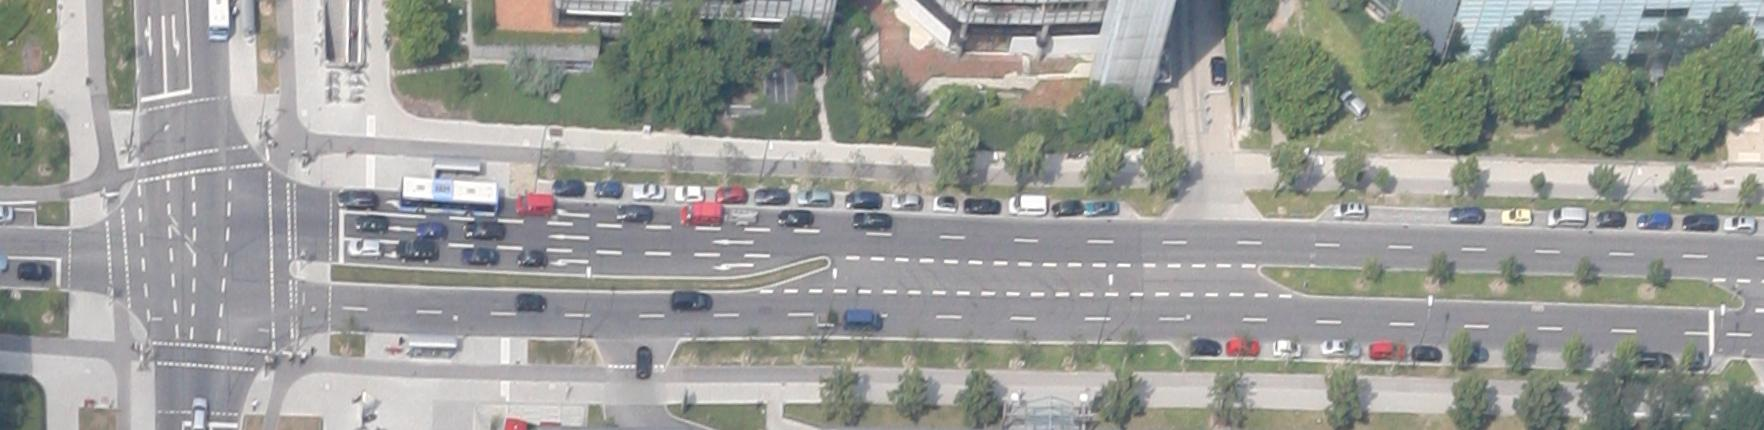car: (1338, 88, 1369, 120), (398, 239, 439, 263), (679, 203, 721, 226), (515, 192, 553, 217), (843, 308, 882, 331), (672, 290, 712, 312), (336, 188, 377, 209), (463, 220, 504, 240), (850, 210, 891, 231), (1320, 338, 1360, 358), (1548, 206, 1586, 227), (1008, 194, 1046, 215), (348, 238, 384, 259), (845, 189, 881, 210), (461, 247, 498, 266), (615, 204, 652, 223), (1682, 212, 1718, 231), (1369, 341, 1406, 359), (355, 214, 388, 234), (634, 344, 652, 380), (1449, 206, 1485, 224), (18, 261, 52, 280), (777, 209, 813, 226), (754, 188, 787, 206), (1333, 200, 1365, 220), (715, 185, 747, 204), (514, 293, 546, 312), (1272, 338, 1302, 358), (1722, 215, 1755, 233), (1637, 212, 1669, 230), (517, 249, 548, 268), (190, 396, 207, 430), (798, 189, 831, 206), (963, 198, 999, 214), (416, 221, 445, 240), (1084, 199, 1117, 216), (1190, 338, 1221, 356), (1594, 210, 1624, 229), (633, 182, 664, 200), (674, 183, 702, 203), (594, 180, 622, 199), (1226, 339, 1258, 356), (1501, 207, 1532, 224), (1412, 344, 1441, 362), (1053, 198, 1082, 216), (891, 192, 921, 209), (553, 179, 584, 196), (728, 209, 756, 226), (1210, 56, 1226, 86), (814, 310, 837, 328), (934, 195, 956, 212)
